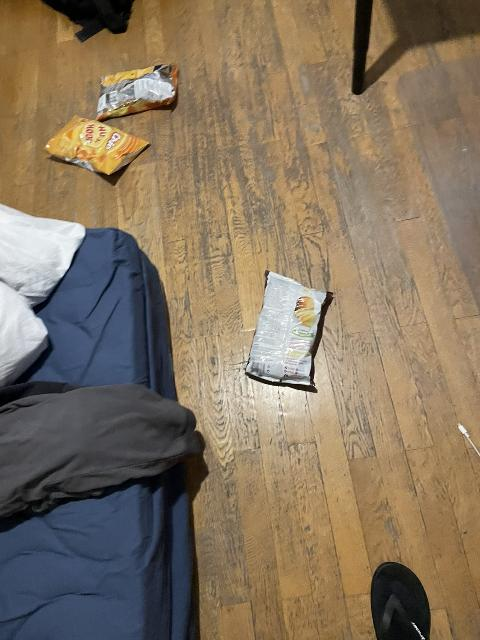Chio Cascaval 125g: (96, 63, 179, 121)
Chio Hula Hoops Cheese 70g: (43, 116, 153, 175)
Lays Beef Grilled Ribs 125g: (244, 270, 331, 388)
